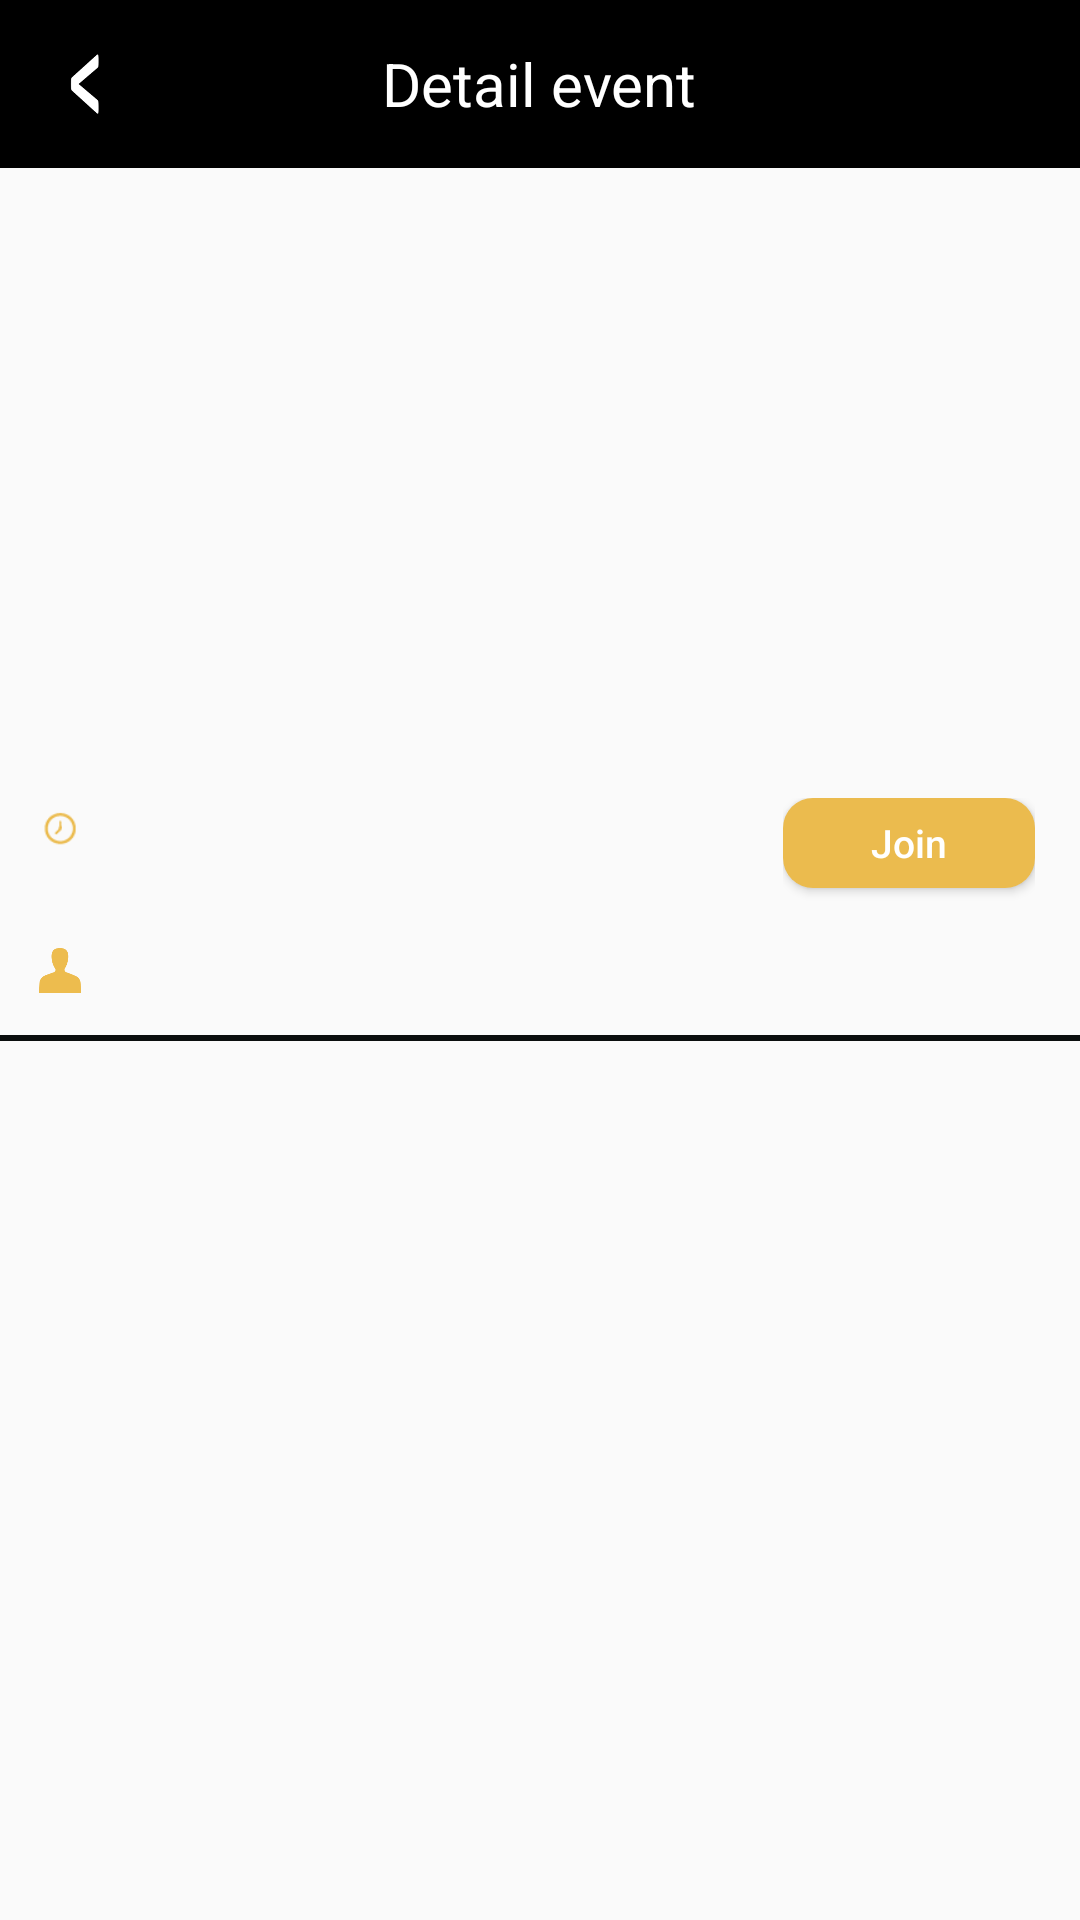

Icon bounding boxes for this 1080px×1920px phone screenshot, format (x1, y1, x2, y2):
iconback: (71, 54, 99, 114)
icontime: (44, 813, 76, 845)
user: (39, 948, 81, 993)
